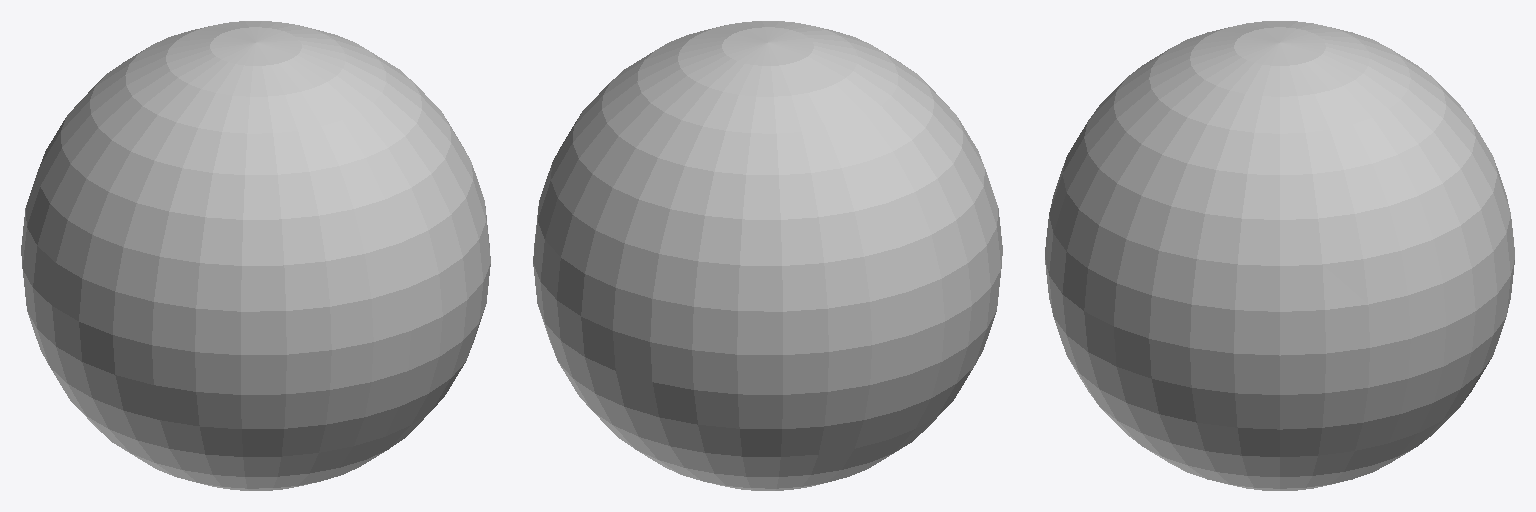
The model's file is dragonSphere.obj.
3 views of the same model, side by side, from view 1: azimuth 30°, elevation 25°; view 2: azimuth 150°, elevation 25°; view 3: azimuth 270°, elevation 25° (orthographic).
Parts seen in each view (by area): view 1: DragonHead; view 2: DragonHead; view 3: DragonHead.
Part boxes in pixels (left/top/right/bottom): DragonHead: left=21, top=21, right=490, bottom=490; DragonHead: left=533, top=21, right=1002, bottom=490; DragonHead: left=1045, top=21, right=1514, bottom=490.
Size of the model in its own units: 0.4 by 0.4 by 0.4.